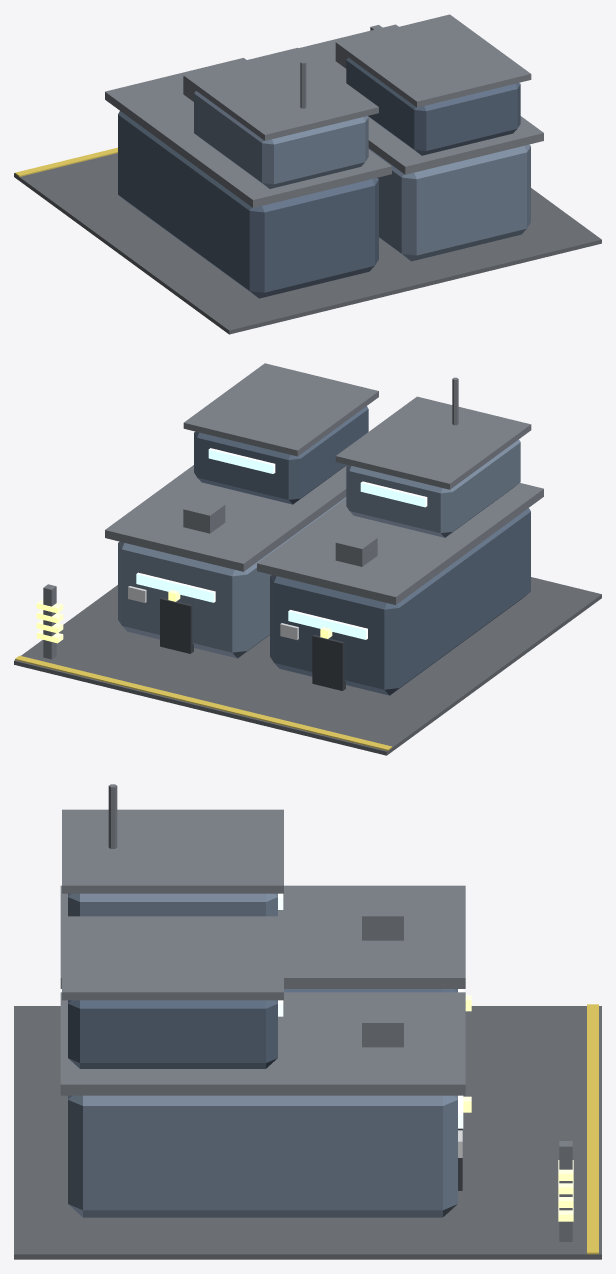
The model's file is zone_low_1_t4.glb.
The picture shows the model from 3 angles, top to bottom: view 1: azimuth 30°, elevation 25°; view 2: azimuth 150°, elevation 25°; view 3: azimuth 270°, elevation 25°; orthographic projection. The views are drawn at different scales.
Parts seen in each view (by area): view 1: zone_low_1_t4, detail; view 2: zone_low_1_t4, detail; view 3: zone_low_1_t4, detail.
Boxes of the visible parts, box(x1,y1,x2,y2) form: zone_low_1_t4: box(14, 14, 601, 334); detail: box(15, 25, 382, 176); zone_low_1_t4: box(14, 363, 601, 755); detail: box(15, 377, 458, 750); zone_low_1_t4: box(14, 809, 601, 1259); detail: box(108, 784, 598, 1254).
Bounding box in the file's own units: 19.6 × 11 × 19.6.
